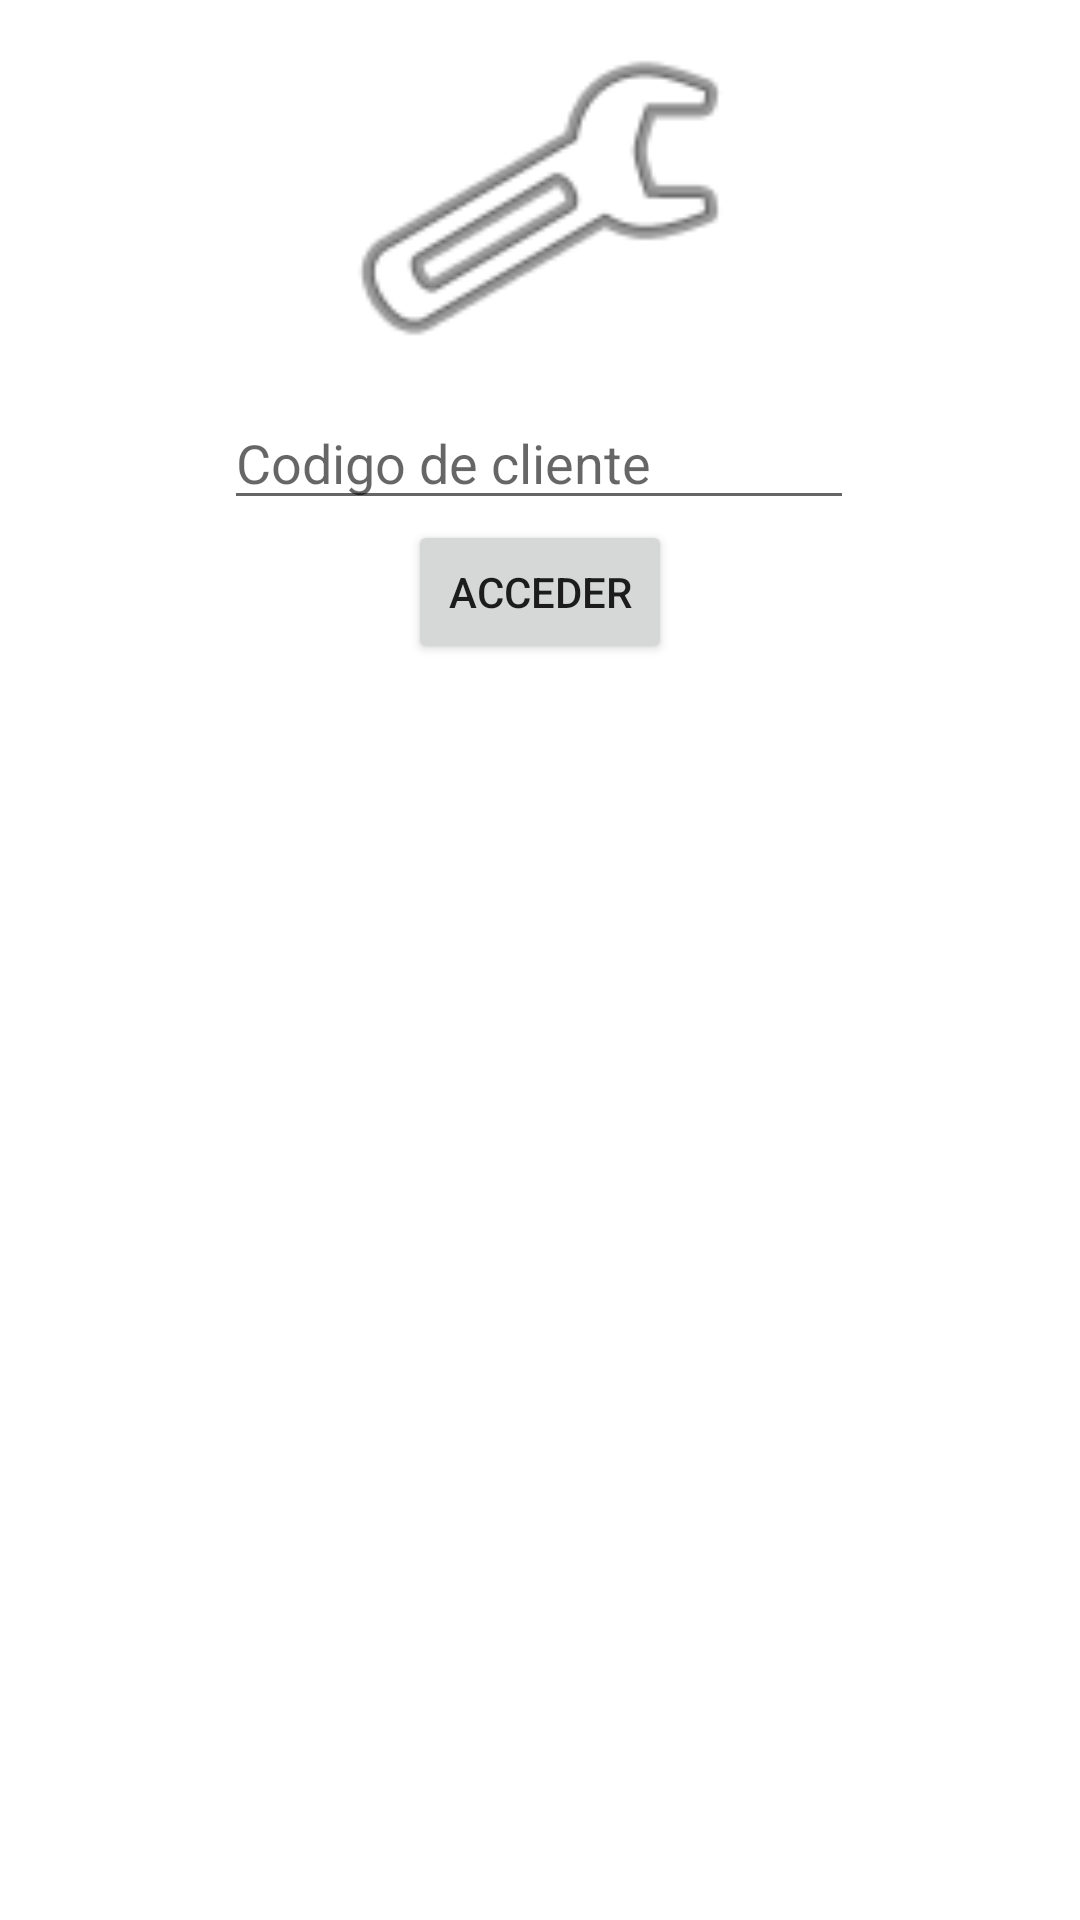

Icons on this 1080px×1920px Android screen, each with its box as [x1=x1, y1=y1, x2=x2, y2=y2]:
manage: [x1=361, y1=61, x2=719, y2=335]
